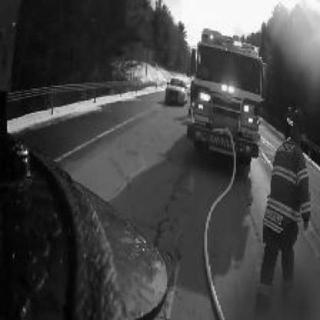other: (214, 62, 237, 104)
